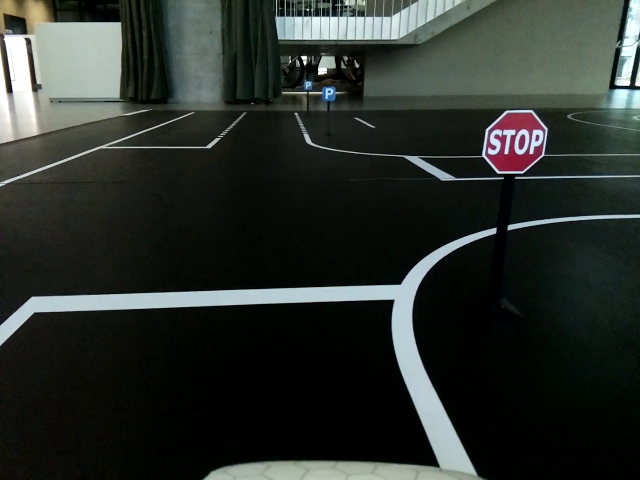stop: (479, 109, 548, 175)
